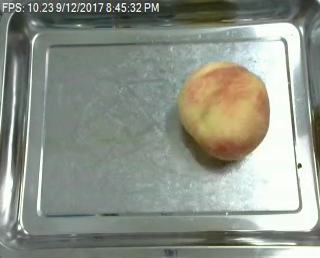Peach: (177, 60, 270, 161)
